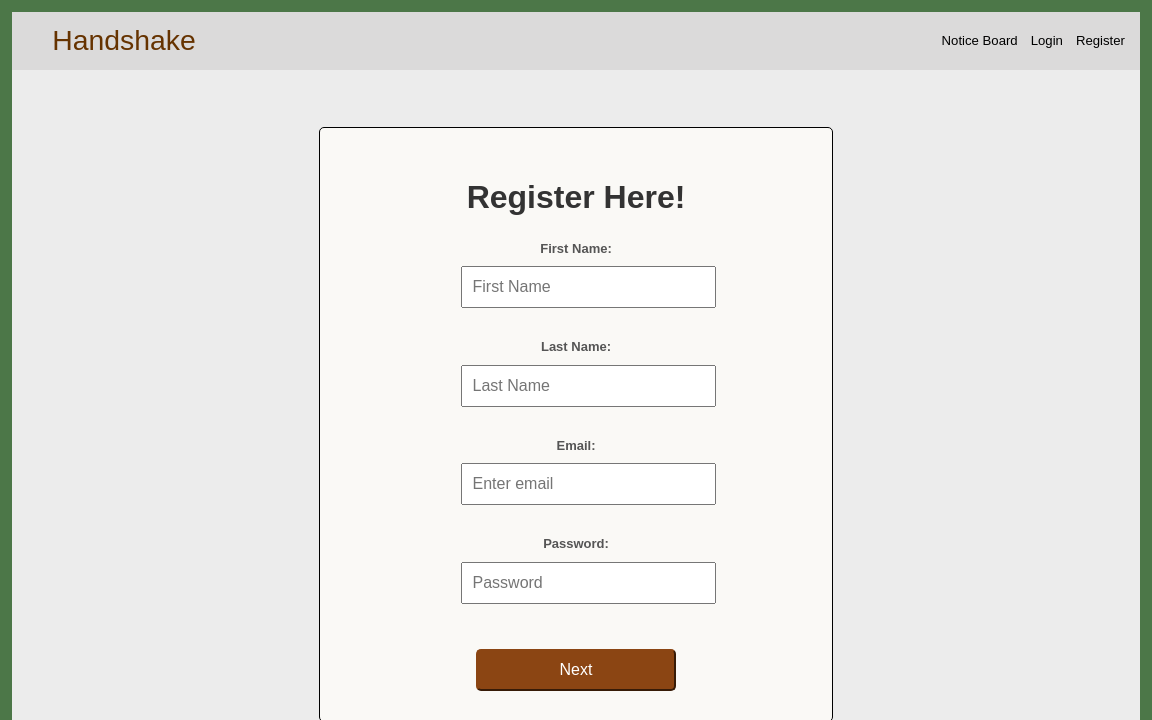
Test: Register Component › moves to stage 2 after submitting stage 1
In the field with placeholder "First Name": coordinates (588, 287) [460,266,716,308], type "John"
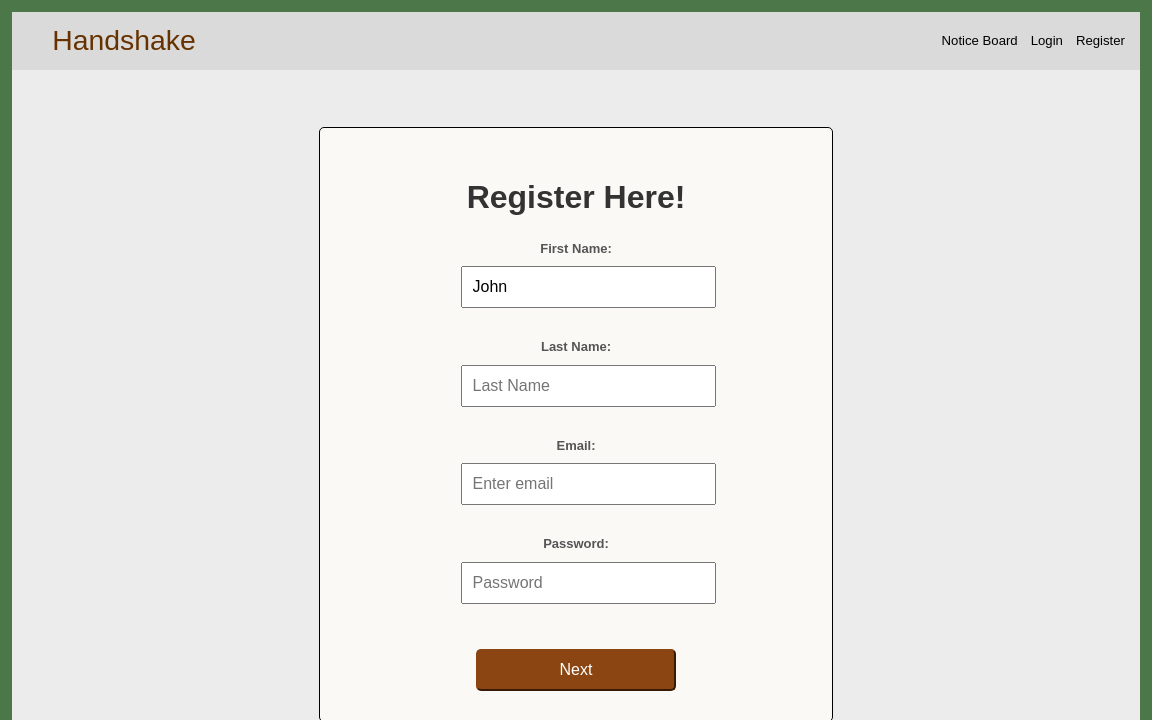
In the field with placeholder "Last Name": coordinates (588, 386) [460,365,716,407], type "Doe"
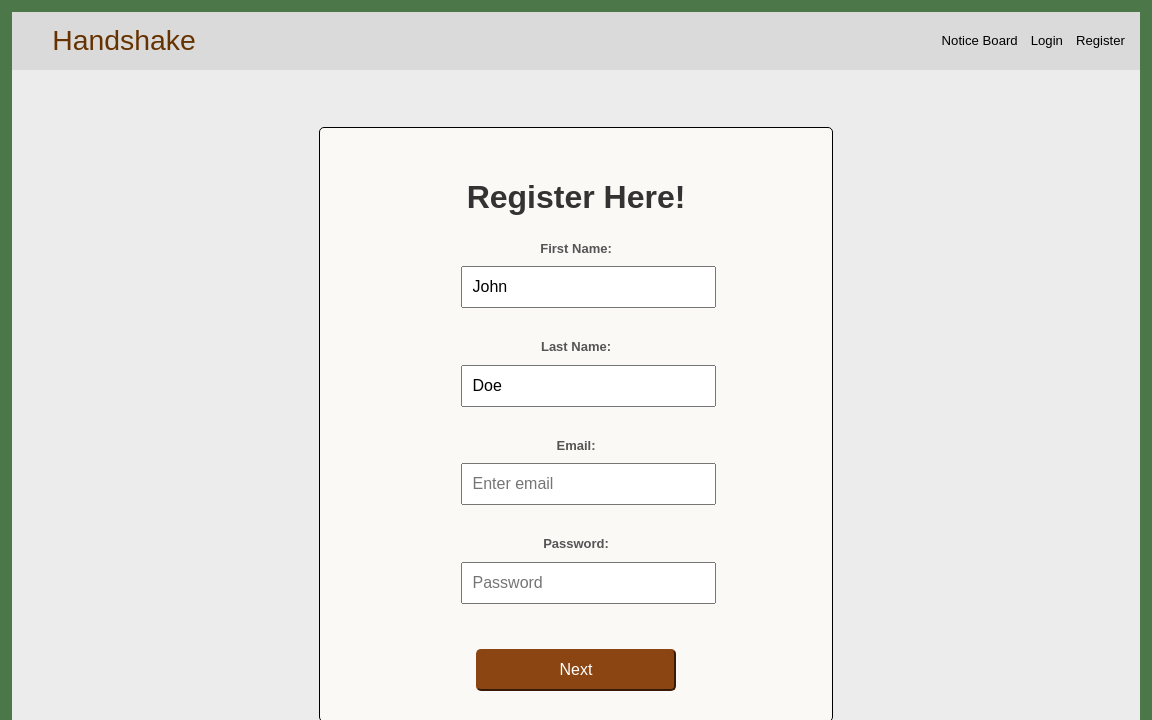
In the field with placeholder "Enter email": coordinates (588, 484) [460,463,716,505], type "john@example.com"
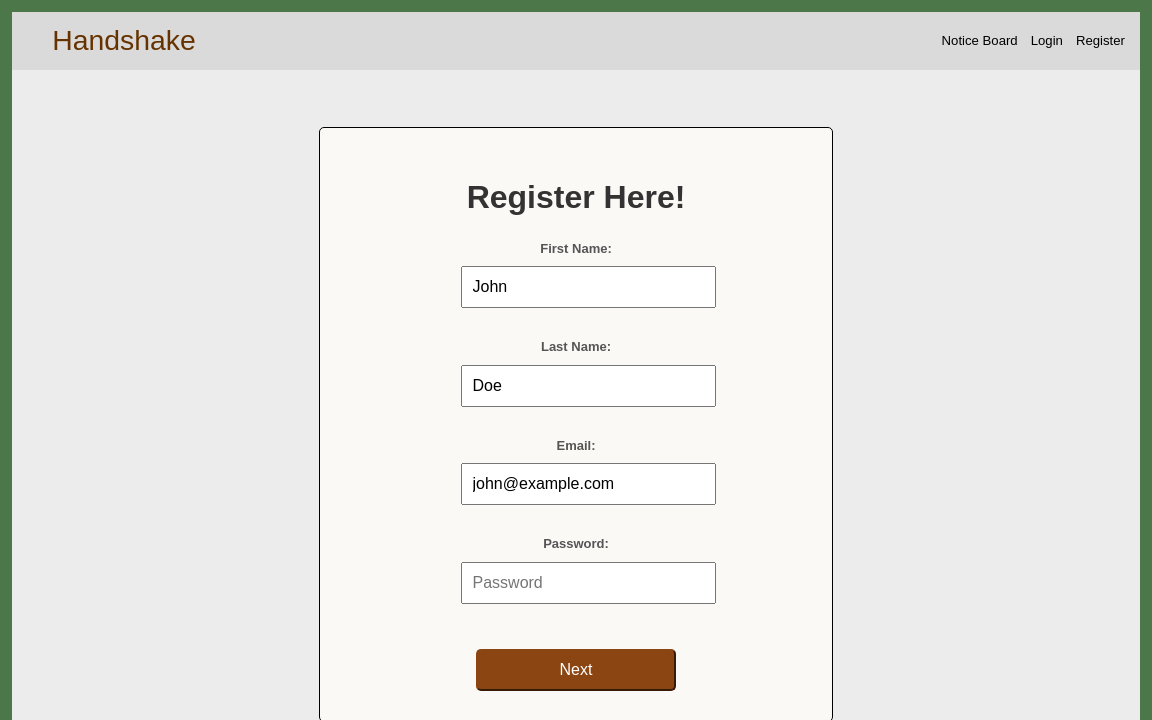
In the password field with placeholder "Password": coordinates (588, 583) [460,562,716,604], type "password123"
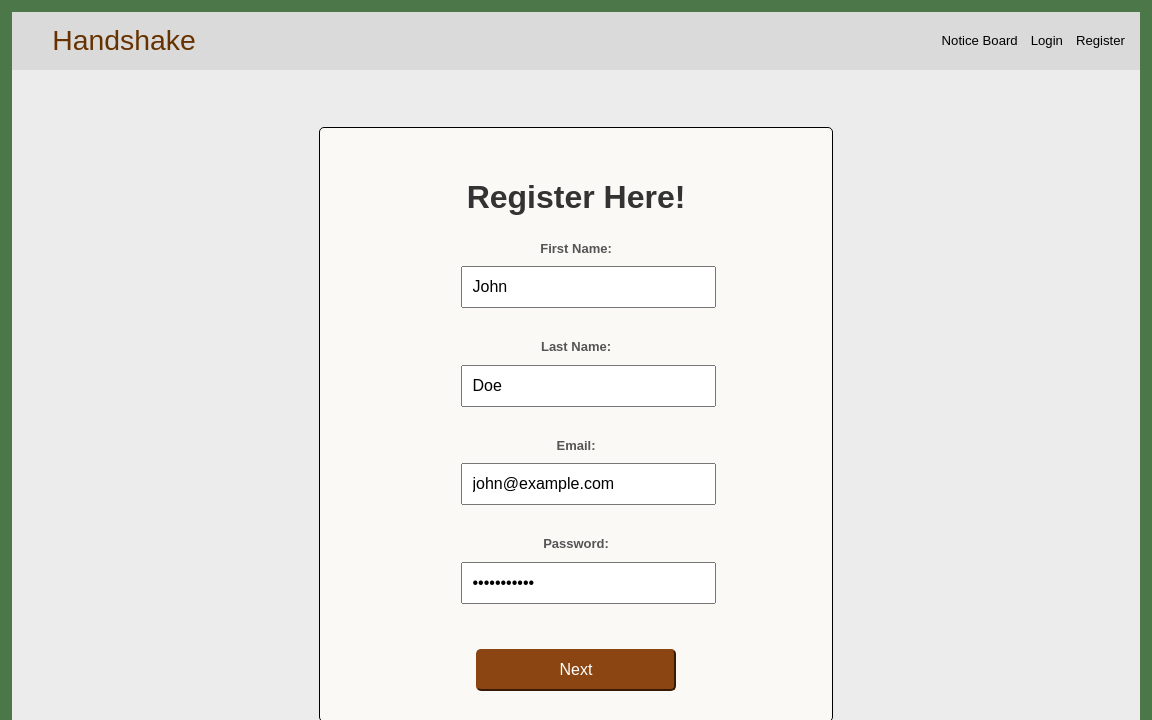
Click the button "Next": coordinates (576, 670) [476,649,676,691]
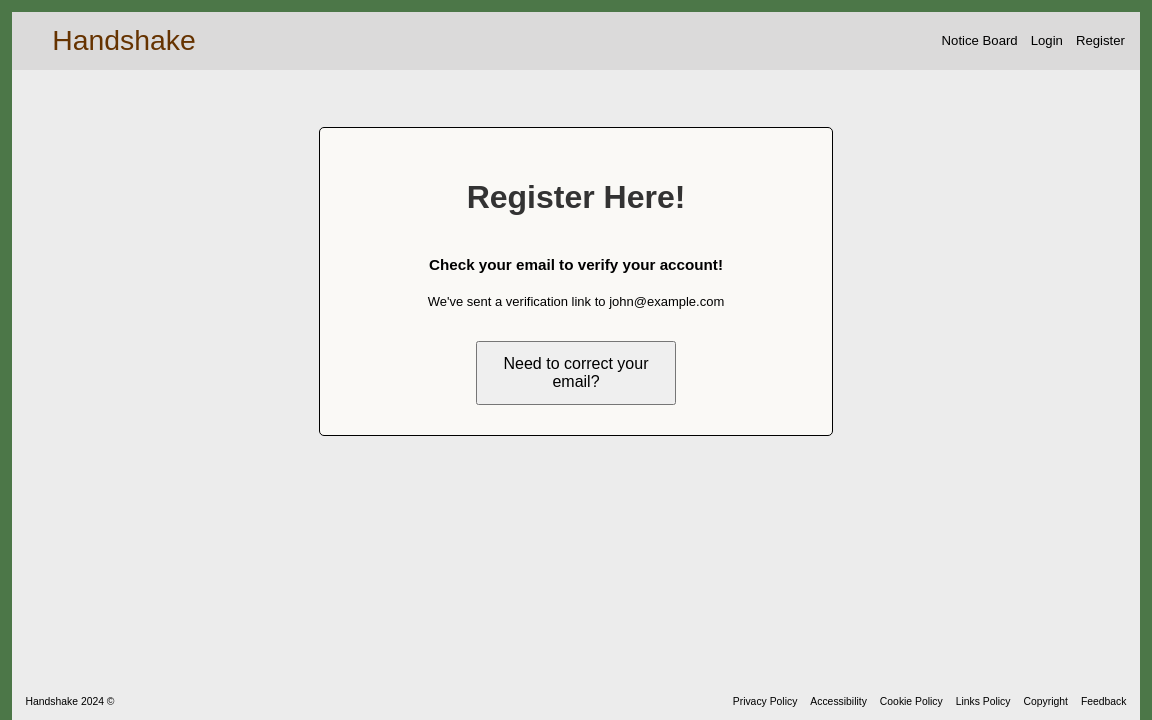
Expected: the heading "Check your email to verify your account!" is shown, [428,254,724,277]
